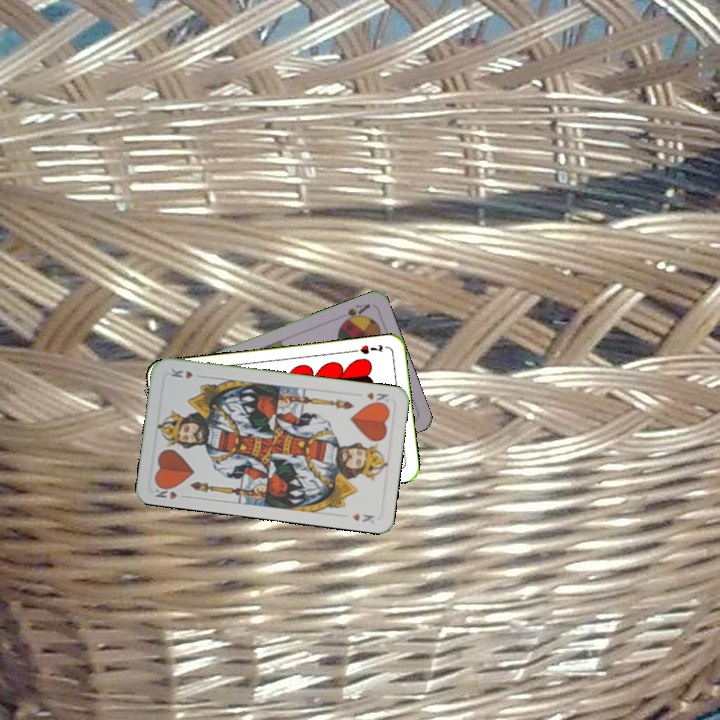H7: (349, 340, 385, 357)
HK: (150, 480, 191, 502), (362, 388, 393, 408)
SA: (337, 300, 373, 327)
